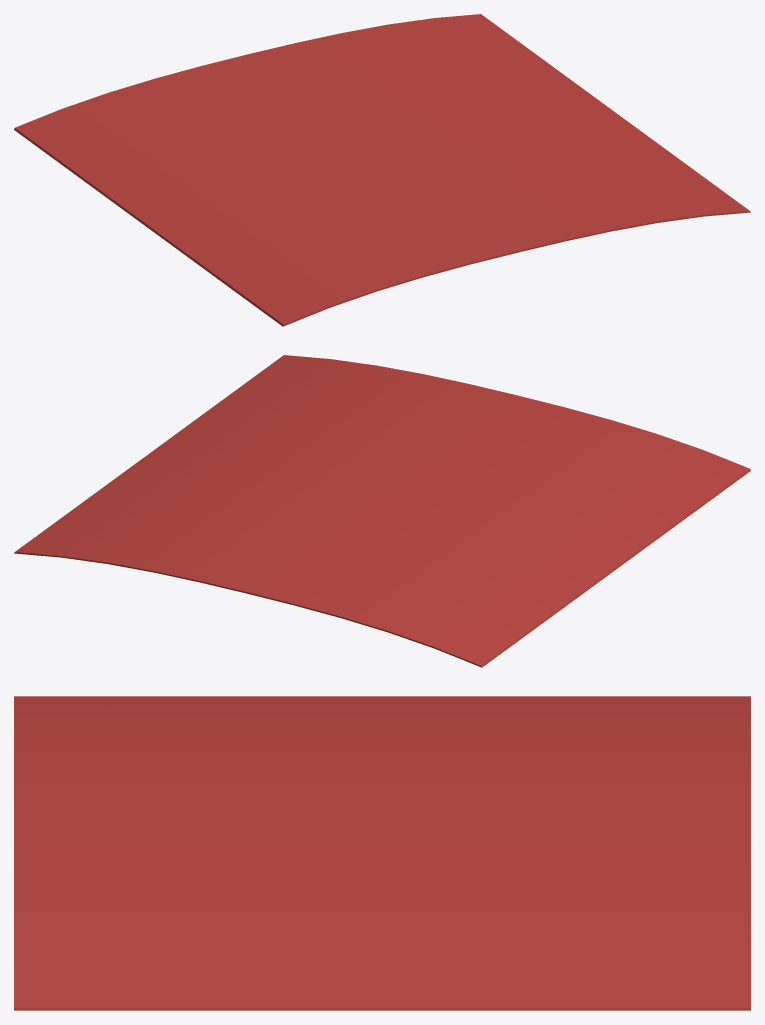
The model's file is steel_tip.glb.
3 renders of one model, top to bottom at view 1: azimuth 30°, elevation 25°; view 2: azimuth 150°, elevation 25°; view 3: azimuth 270°, elevation 25°, orthographic. The views are drawn at different scales.
Visible parts, largest first — view 1: lod0; view 2: lod0; view 3: lod0.
Boxes of the visible parts, x1,y1,x2,y2 form: lod0: (14, 14, 750, 326); lod0: (14, 355, 750, 667); lod0: (14, 696, 750, 1010).
Size of what is drawn, in the model's own units: 1 by 0.0379 by 1.
